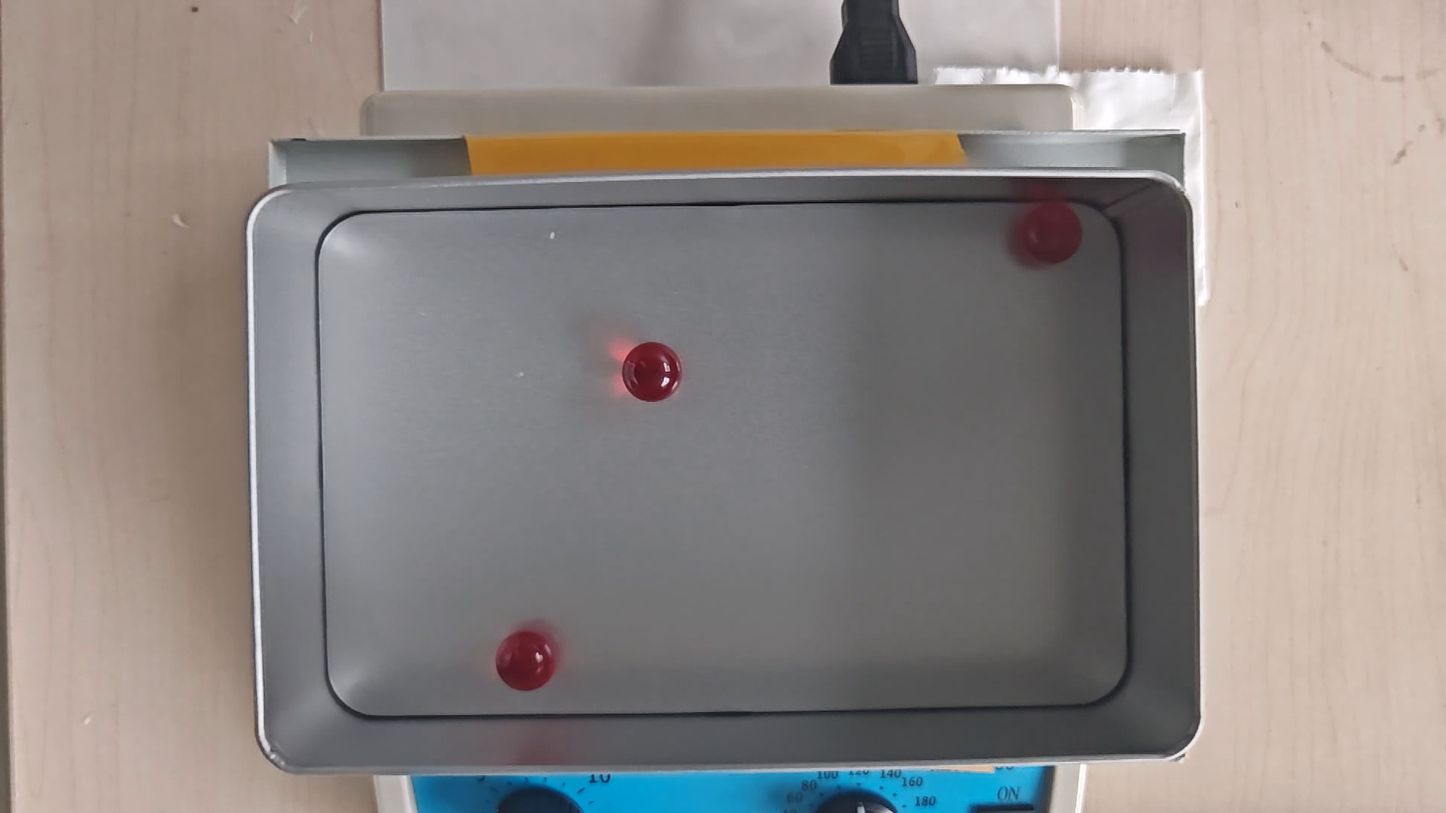ball: (494, 631, 556, 693), (1022, 204, 1083, 266), (621, 342, 682, 403)
container: (320, 204, 1130, 711)
